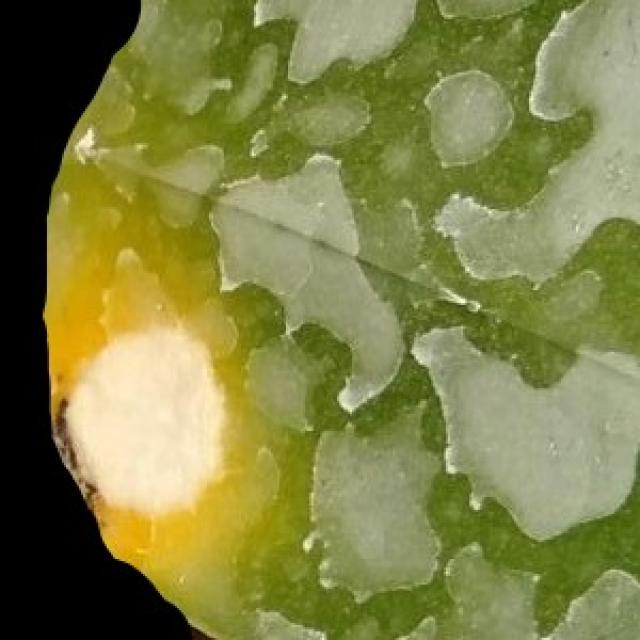mite: (535, 213, 638, 361), (243, 320, 354, 433), (420, 66, 516, 169), (277, 81, 373, 151), (422, 467, 482, 550), (218, 277, 286, 348), (427, 0, 546, 21)
spots: (43, 0, 638, 638)
